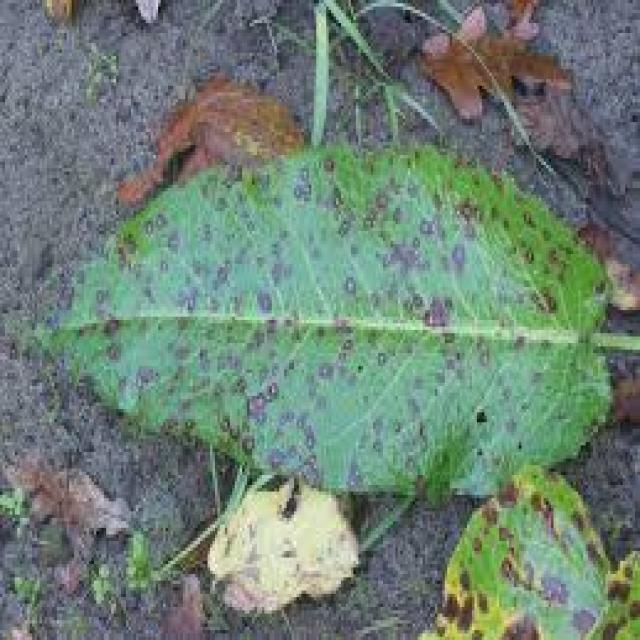Panama: (71, 170, 582, 479), (445, 485, 618, 640)
